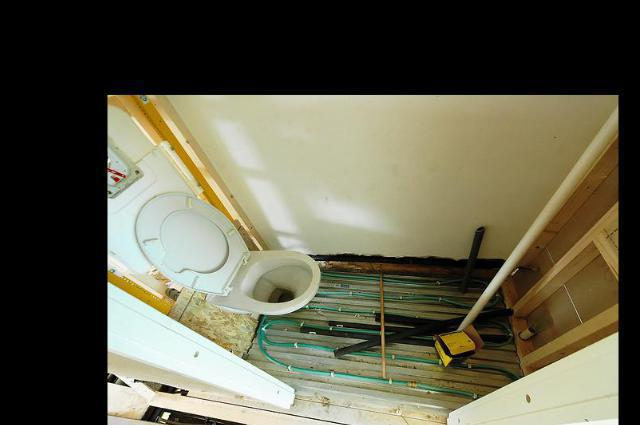Sanitario: (139, 188, 325, 329)
